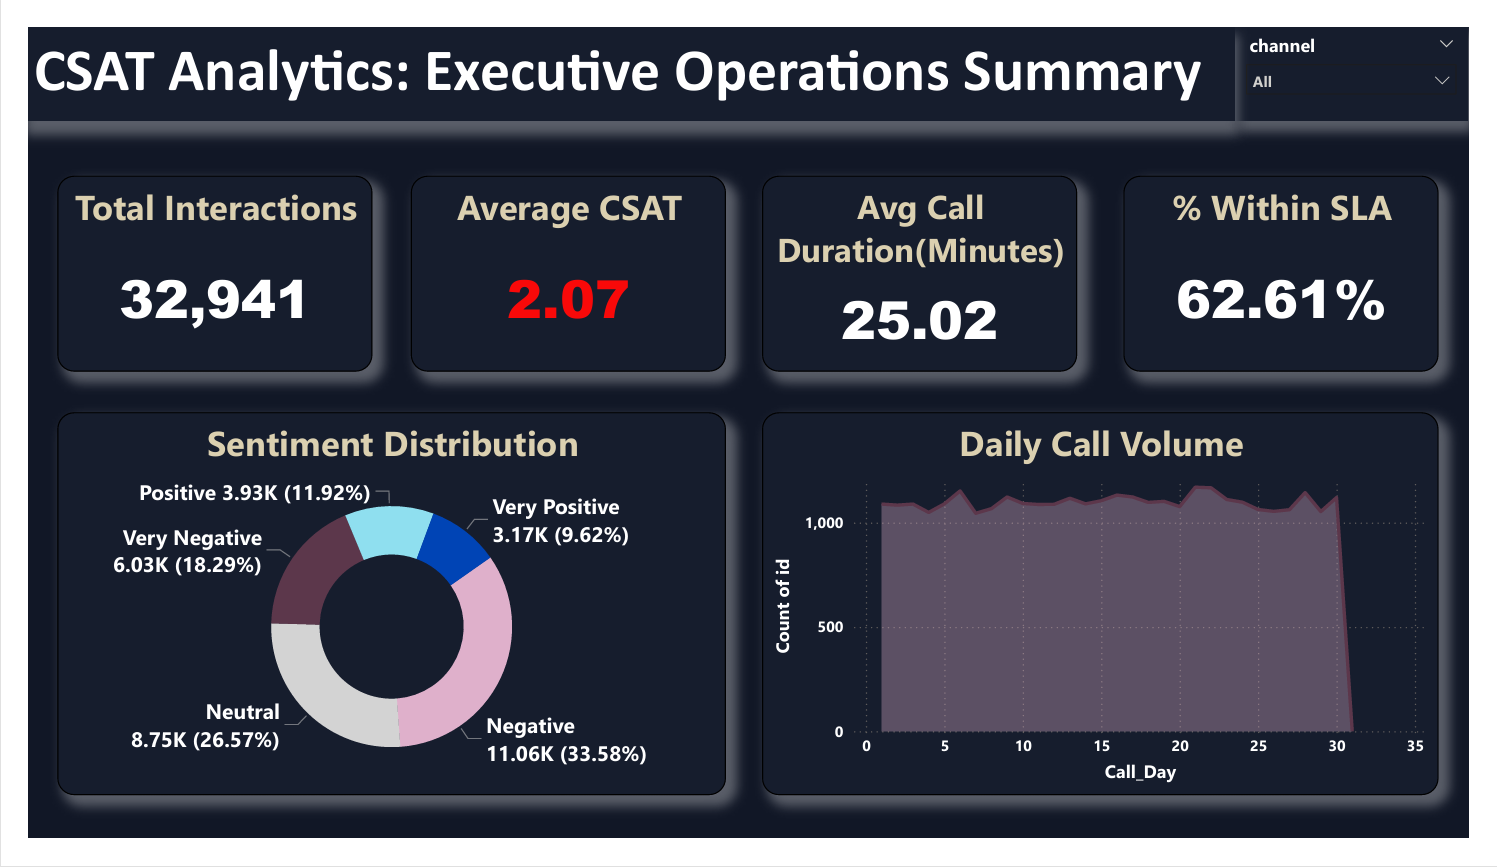

The dashboard page shown, as its layout file describes it:
{"tool":"powerbi","page":{"name":"Executive Overview","canvas":[1280,720],"ordinal":0},"visuals":[{"type":"card","title":"Total Interactions","fields":{"Values":["CountNonNull(Table1.id)"]},"box":[26.5,132.3,279.7,173.9],"z":0},{"type":"card","title":"Average CSAT","fields":{"Values":["Avg(Table1.csat_score)"]},"box":[340.2,132.3,279.7,173.9],"z":1000},{"type":"card","title":"Avg Call Duration(Minutes)","fields":{"Values":["Avg(Table1.call_duration_in_minutes)"]},"box":[652,132.3,279.7,173.9],"z":2000},{"type":"donutChart","title":"Sentiment Distribution","fields":{"Y":["CountNonNull(Table1.id)"],"Category":["Table1.sentiment"]},"box":[26.5,342,593.4,340.2],"z":3000},{"type":"lineChart","title":"Daily Call Volume","fields":{"Y":["CountNonNull(Table1.id)"],"Category":["Table1.Call_Day"]},"box":[652,342,600.9,340.2],"z":4000},{"type":"slicer","fields":{"Values":["Table1.channel"]},"box":[1071.5,0,207.9,83.2],"z":5000},{"type":"textbox","box":[0,0,1071.5,83.2],"z":6000},{"type":"card","title":"% Within SLA","fields":{"Values":["Table1.% Within SLA"]},"box":[973.2,132.3,279.7,173.9],"z":7000}]}

Visuals, with their boxes in screenshot pixels (x1, y1, x2, y2), scaled from the page's 1280x720 canvas onto the 1497x867 screenshot:
"Total Interactions" card: {"x1": 31, "y1": 159, "x2": 358, "y2": 369}
"Average CSAT" card: {"x1": 398, "y1": 159, "x2": 725, "y2": 369}
"Avg Call Duration(Minutes)" card: {"x1": 763, "y1": 159, "x2": 1090, "y2": 369}
"Sentiment Distribution" donutChart: {"x1": 31, "y1": 412, "x2": 725, "y2": 821}
"Daily Call Volume" lineChart: {"x1": 763, "y1": 412, "x2": 1465, "y2": 821}
slicer - Table1.channel: {"x1": 1253, "y1": 0, "x2": 1496, "y2": 100}
textbox: {"x1": 0, "y1": 0, "x2": 1253, "y2": 100}
"% Within SLA" card: {"x1": 1138, "y1": 159, "x2": 1465, "y2": 369}
